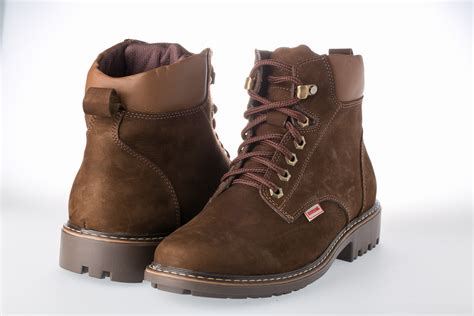cuero: (65, 37, 379, 283)
